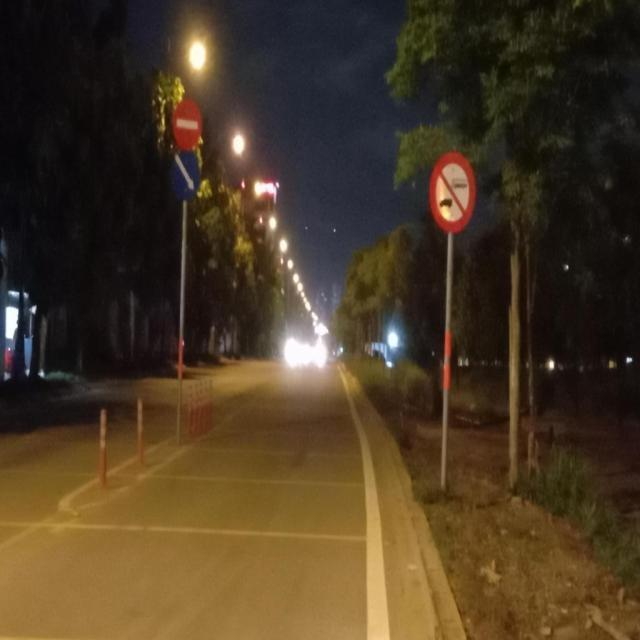102-cam-di-nguoc-chieu: (170, 99, 203, 148)
107-cam-oto-khach-va-oto-tai: (428, 150, 477, 233)
302a-huong-phai-di-vong-chuong-ngai-vat-1: (169, 146, 201, 197)
